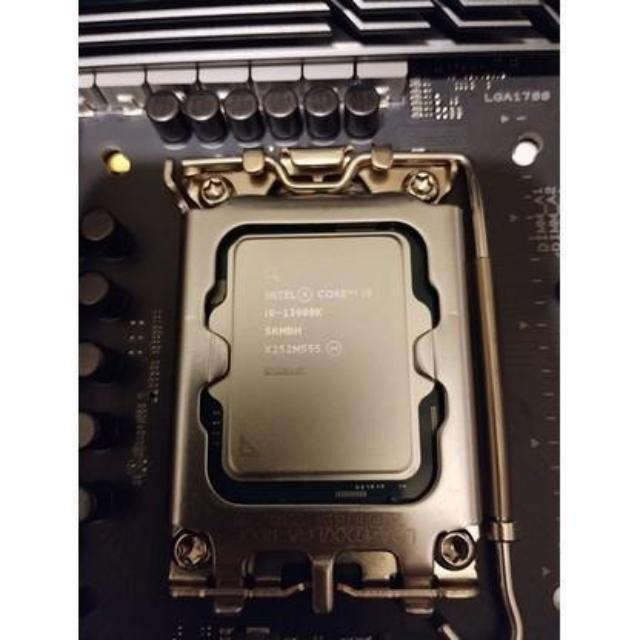CPU: (218, 226, 424, 488)
